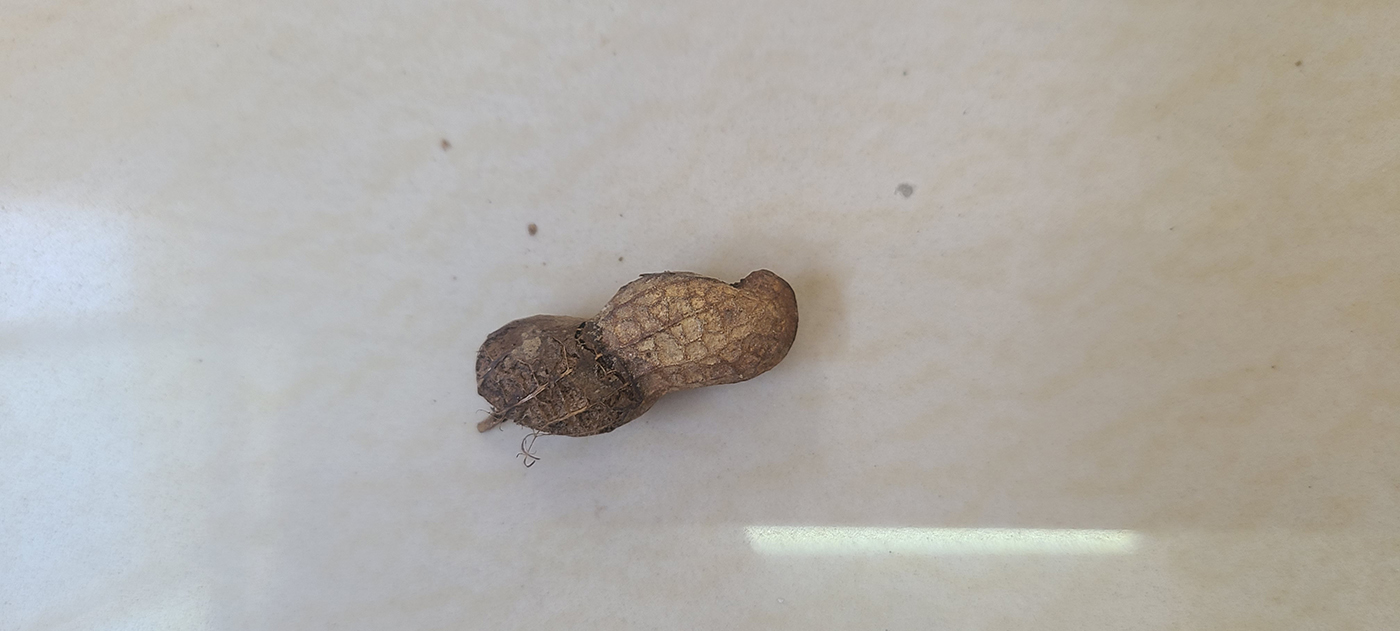l: (469, 266, 801, 437)
